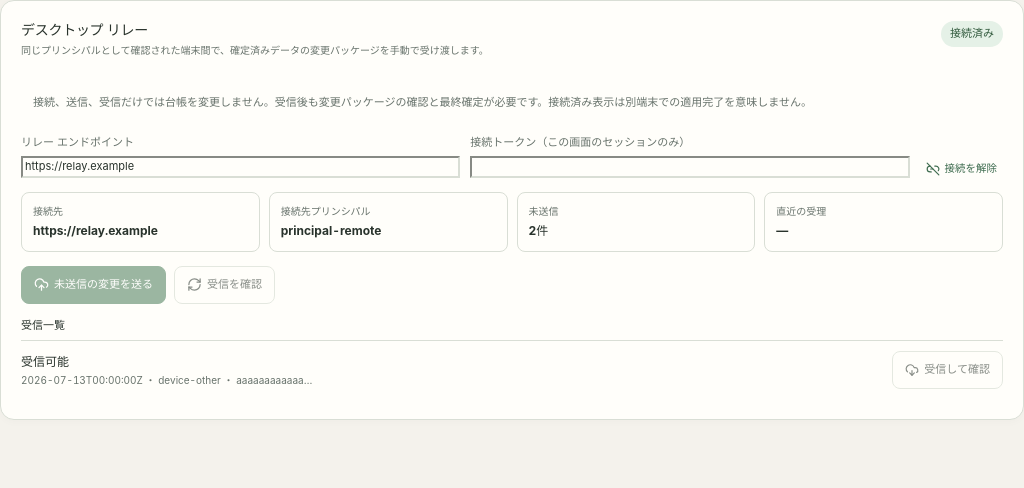
Test: DesktopRelayPanel › refuses transport when the session token resolves to another principal
Check: the text "接続済み" is shown, box x1=941 y1=21 x2=1003 y2=47
Type "wrong-session-token" into the password field named "リレー接続トークン". click: (690, 167)
box: x1=470 y1=156 x2=910 y2=178
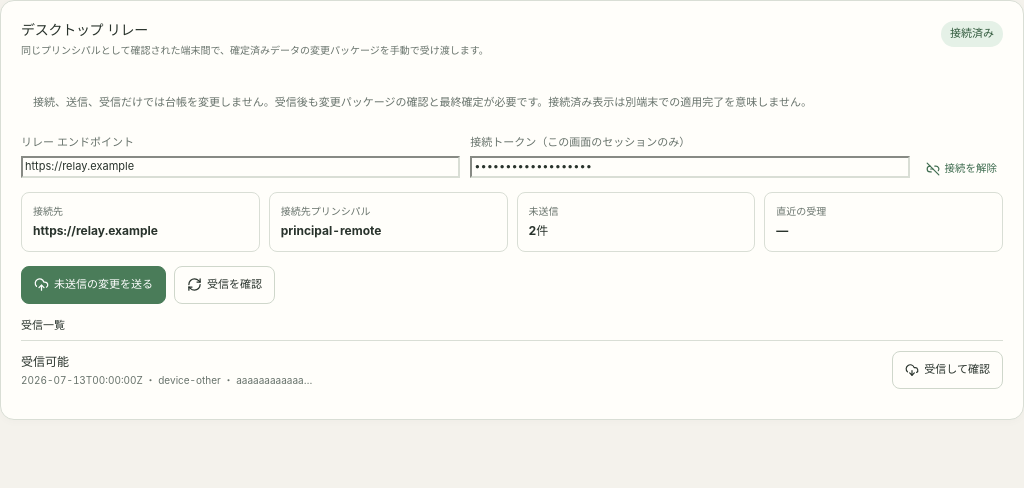
Click the button "未送信の変更を送る". click: (94, 284)
box: x1=21 y1=266 x2=166 y2=304
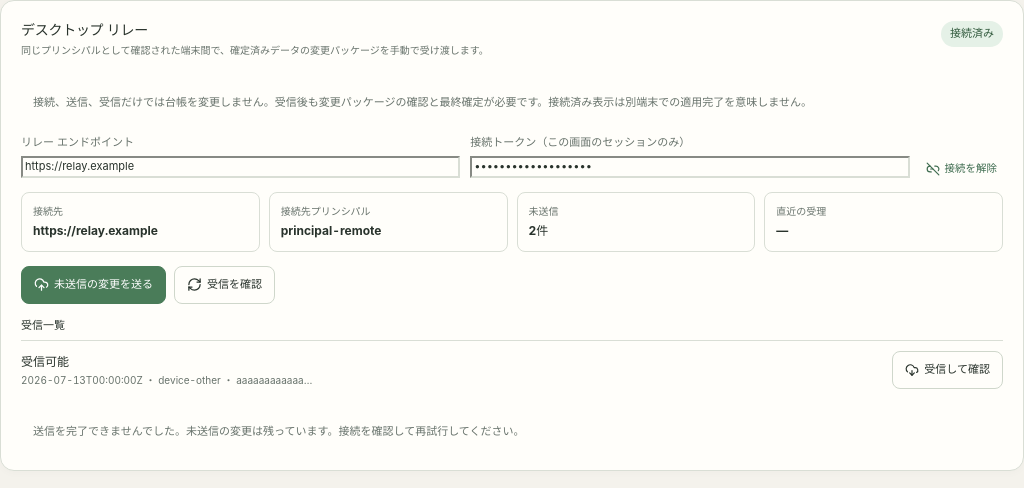
Check: the text "送信を完了できませんでした。未送信の変更は残っています。接続を確認して再試行してください。" is shown, box x1=33 y1=424 x2=524 y2=438
